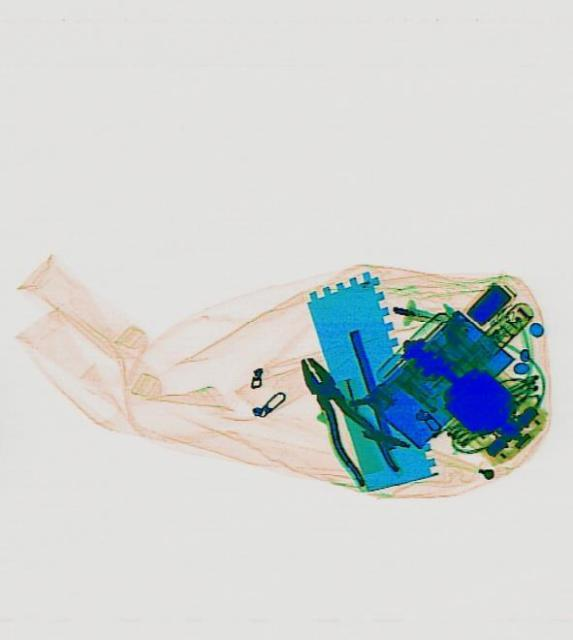Pliers: (283, 341, 400, 493)
